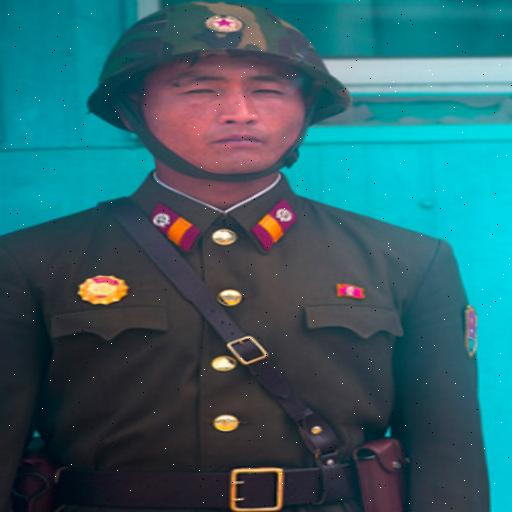north army: (0, 10, 512, 512)
